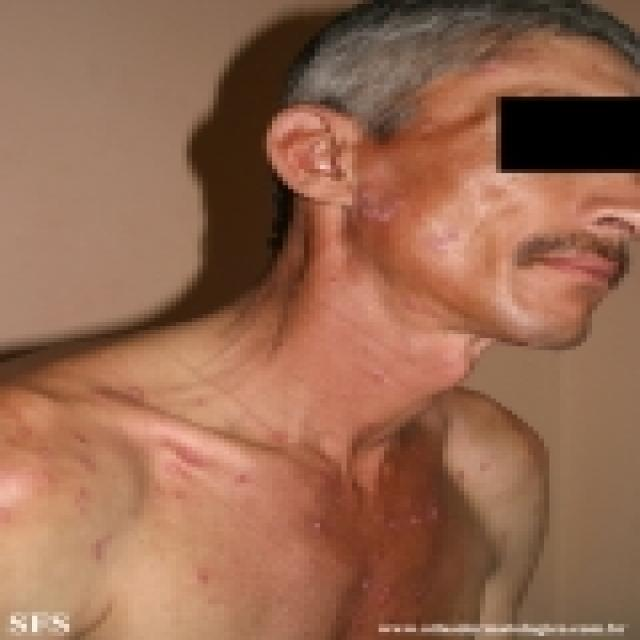lupus: (4, 380, 437, 607)
